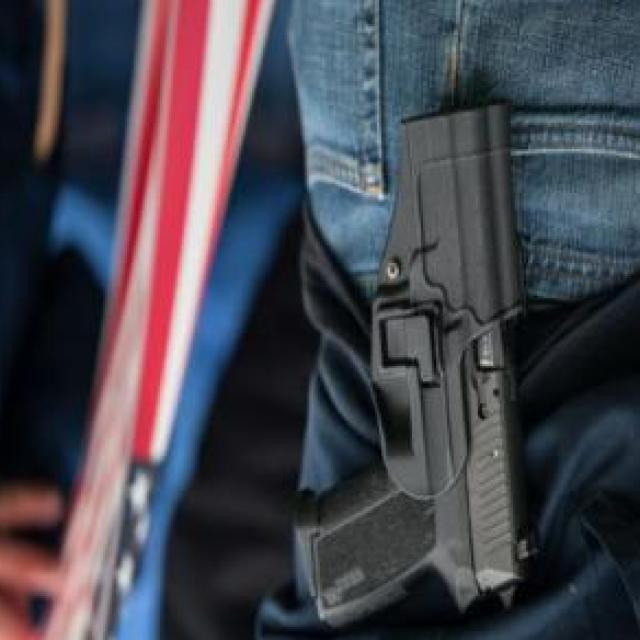pistol: (289, 79, 552, 629)
